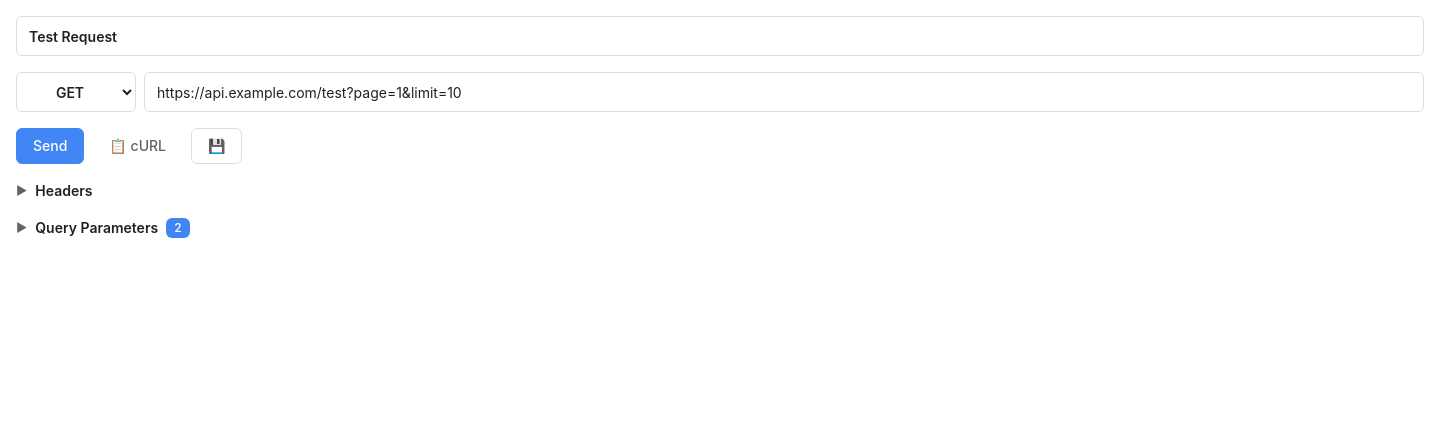
Test: Query Parameters Feature › should parse existing query parameters from URL
expect the text "2" is shown: met, box [166, 218, 190, 238]
# Click to expand query parameters section
Click the heading "▶ Query Parameters 2" at (103, 228), box [16, 218, 190, 238]
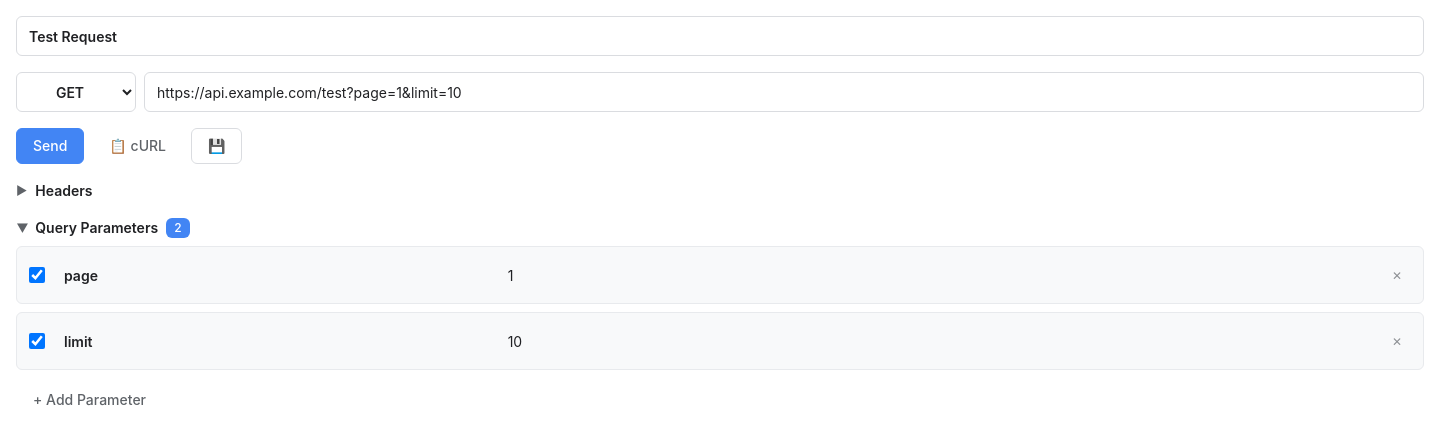
expect the 3rd field showing "page" is shown: met, box [60, 255, 492, 295]
expect the 4th field showing "1" is shown: met, box [504, 255, 1367, 295]
expect the 5th field showing "limit" is shown: met, box [60, 321, 492, 361]
